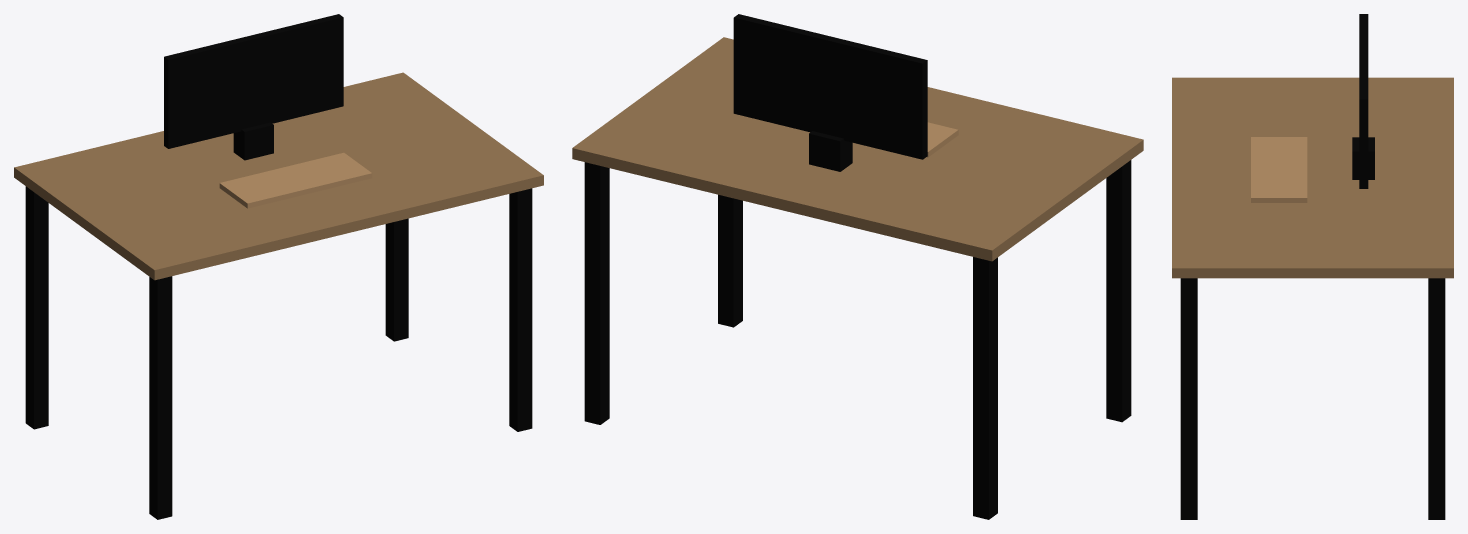
The model's file is workstation.glb.
3 renders of one model, left to right at view 1: azimuth 30°, elevation 25°; view 2: azimuth 150°, elevation 25°; view 3: azimuth 270°, elevation 25°, orthographic. The views are drawn at different scales.
Parts seen in each view (by area): view 1: workstation; view 2: workstation; view 3: workstation.
Part boxes in pixels (x1,y1,x2,y2): workstation: (14,14,543,519); workstation: (572,14,1143,519); workstation: (1172,14,1453,519).
Size of the model in its own units: 1.22 by 1.11 by 0.762.
